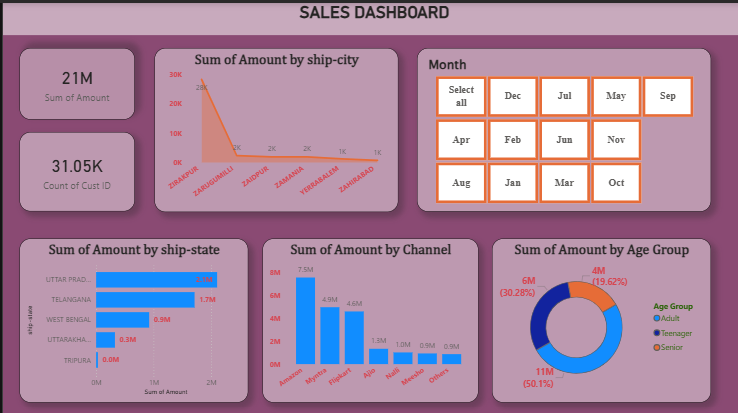

Layout of this report page (visuals, bound fields, positions):
{"tool":"powerbi","page":{"name":"Page 1","canvas":[1280,720],"ordinal":0},"visuals":[{"type":"textbox","title":"SALES DASHBOARD","box":[0,0,1279.8,55.1],"z":0},{"type":"columnChart","fields":{"Category":["Sheet1.Channel "],"Y":["Sum(Sheet1.Amount)"]},"box":[446.3,406.4,371.9,282.4],"z":1000},{"type":"donutChart","fields":{"Category":["Sheet1.Age Group"],"Y":["Sum(Sheet1.Amount)"]},"box":[843.1,406.4,377.5,282.4],"z":2000},{"type":"card","fields":{"Values":["CountNonNull(Sheet1.Cust ID)"]},"box":[28.9,223.2,198.4,136.4],"z":3000},{"type":"barChart","fields":{"Category":["Sheet1.ship-state"],"Y":["Sum(Sheet1.Amount)"]},"box":[28.9,406.4,394,282.4],"z":4000},{"type":"areaChart","fields":{"Category":["Sheet1.ship-city"],"Y":["Sum(Sheet1.Amount)"]},"box":[261.7,77.1,420.2,282.4],"z":5000},{"type":"slicer","fields":{"Values":["Sheet1.Month"]},"box":[713.2,77.5,506.5,281.7],"z":6000},{"type":"card","fields":{"Values":["Sum(Sheet1.Amount)"]},"box":[28.9,77.1,198.4,123],"z":7000}]}

Visuals, with their boxes in screenshot pixels (x1, y1, x2, y2), scaled from the page's 1280x720 canvas onto the 738x413 screenshot:
"SALES DASHBOARD" textbox: Rect(0, 0, 737, 32)
columnChart - Sheet1.Channel  x Sum(Sheet1.Amount): Rect(257, 233, 472, 395)
donutChart - Sheet1.Age Group x Sum(Sheet1.Amount): Rect(486, 233, 704, 395)
card - CountNonNull(Sheet1.Cust ID): Rect(17, 128, 131, 206)
barChart - Sheet1.ship-state x Sum(Sheet1.Amount): Rect(17, 233, 244, 395)
areaChart - Sheet1.ship-city x Sum(Sheet1.Amount): Rect(151, 44, 393, 206)
slicer - Sheet1.Month: Rect(411, 44, 703, 206)
card - Sum(Sheet1.Amount): Rect(17, 44, 131, 115)
